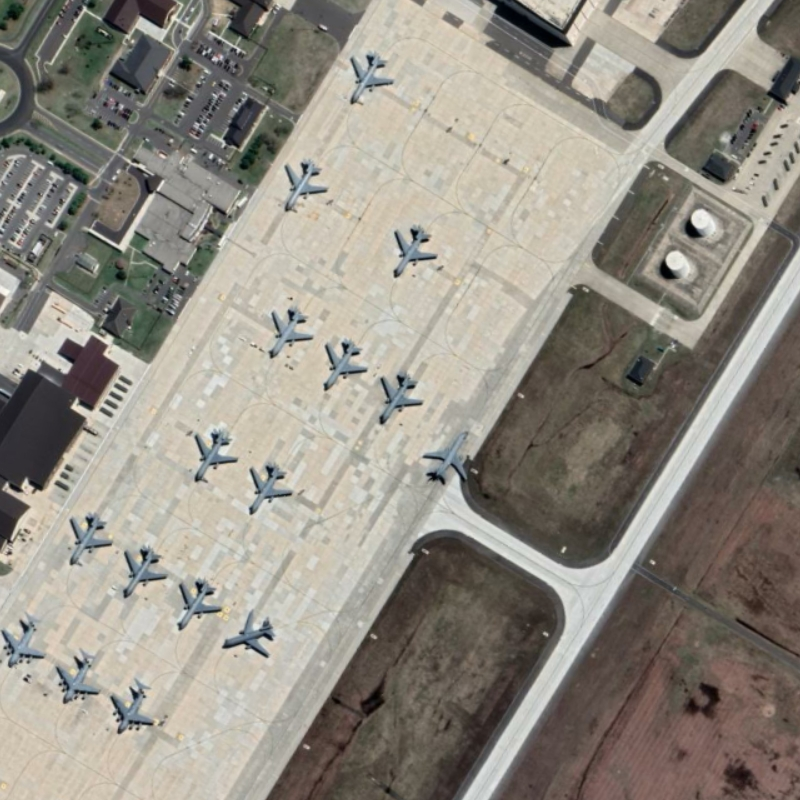A18: (344, 47, 397, 108), (244, 458, 296, 519), (219, 606, 276, 661), (373, 369, 425, 429), (265, 303, 316, 364), (66, 510, 116, 572), (189, 425, 240, 485), (389, 222, 439, 283), (120, 542, 171, 601), (175, 574, 224, 635), (319, 337, 369, 394), (421, 429, 470, 485), (282, 156, 329, 214)
A3: (51, 644, 103, 708), (108, 674, 159, 738), (1, 607, 48, 670)
